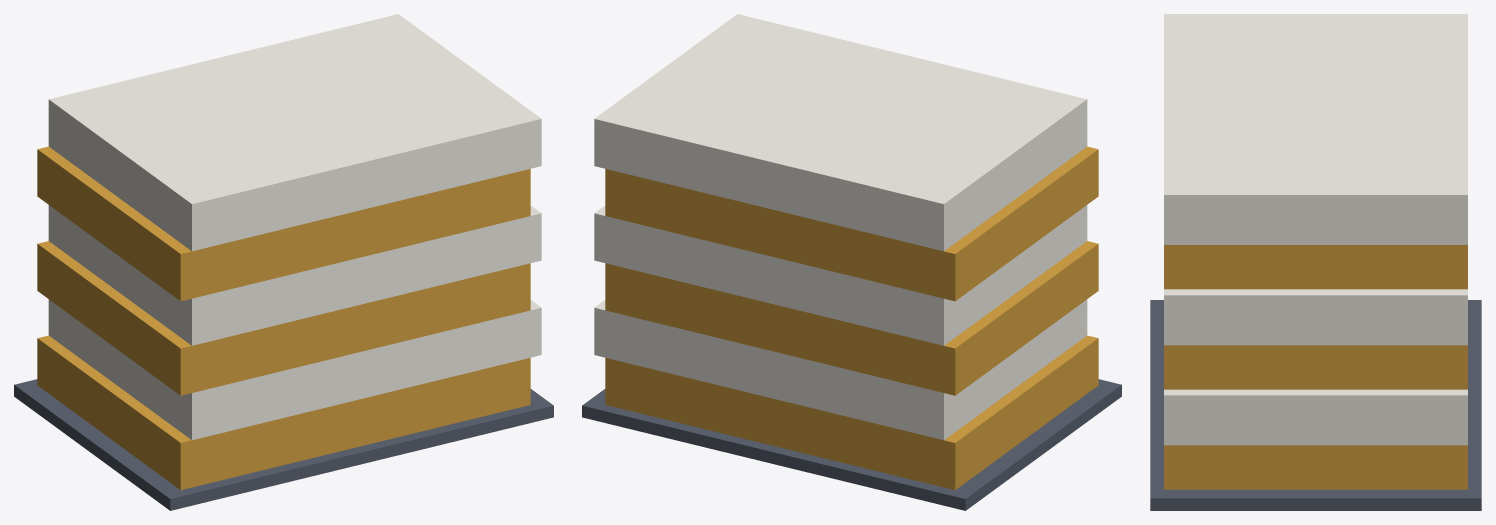
Rendered from pilha_papeis.glb.
3 views of the same model, side by side, from view 1: azimuth 30°, elevation 25°; view 2: azimuth 150°, elevation 25°; view 3: azimuth 270°, elevation 25° (orthographic). The views are drawn at different scales.
Visible parts, largest first — view 1: papeis, base; view 2: papeis, base; view 3: papeis, base.
Boxes of the visible parts, x1,y1,x2,y2 form: papeis: [37, 14, 541, 489]; base: [14, 379, 553, 510]; papeis: [594, 14, 1098, 489]; base: [582, 379, 1121, 510]; papeis: [1164, 14, 1467, 489]; base: [1150, 300, 1481, 510].
Size of the model in its own units: 0.34 by 0.25 by 0.24.
